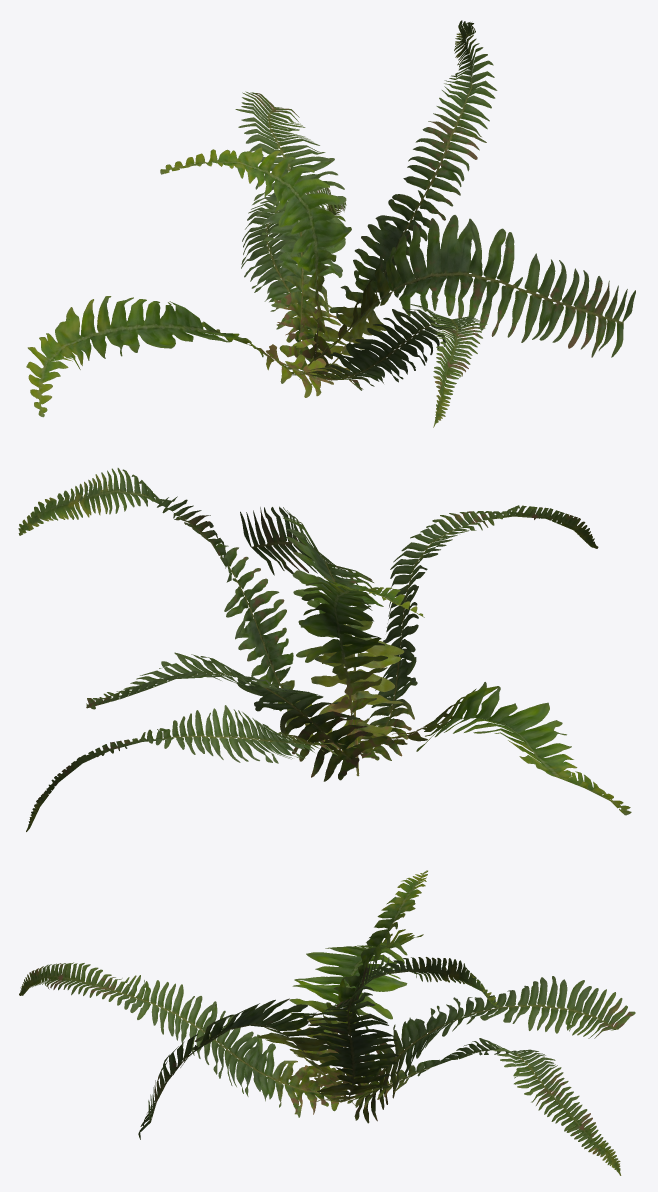
File: Plant_C.glb
The picture shows the model from 3 angles, top to bottom: view 1: azimuth 30°, elevation 25°; view 2: azimuth 150°, elevation 25°; view 3: azimuth 270°, elevation 25°; orthographic projection. The views are drawn at different scales.
Visible parts, largest first — view 1: Plant_C_instance.001; view 2: Plant_C_instance.001; view 3: Plant_C_instance.001.
Boxes of the visible parts, <box> form: Plant_C_instance.001: <box>26,20,635,427</box>; Plant_C_instance.001: <box>18,468,631,831</box>; Plant_C_instance.001: <box>19,870,635,1175</box>.
Bounding box in the file's own units: 0.5519 × 0.2868 × 0.6134.
Materials: 1 (1 with a texture image).
